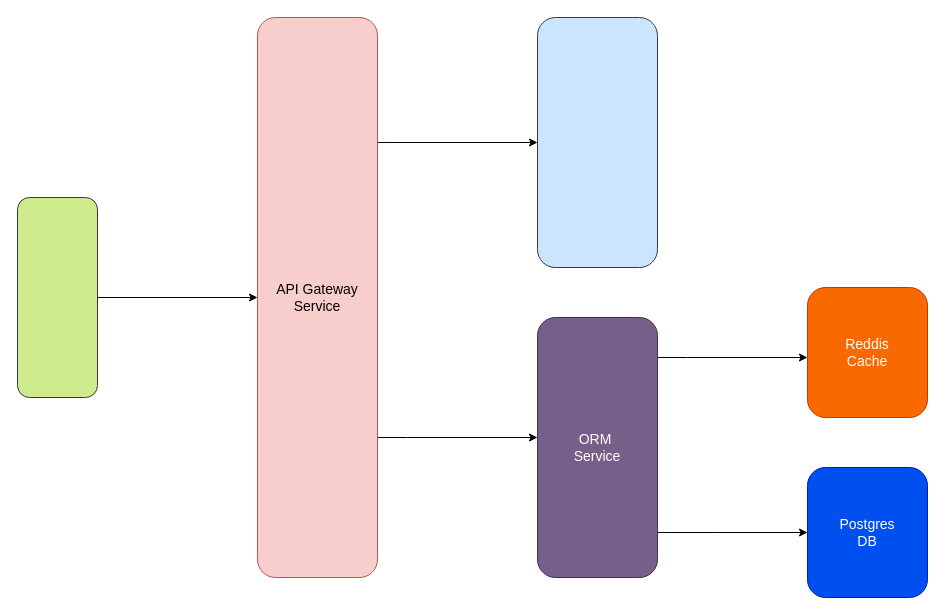
This 945x615 diagram has some shape labels left out. Each missing label, with the box of its shape:
Authentication Service (Phase 5): (536, 16, 658, 268)
Client: (16, 196, 98, 398)
